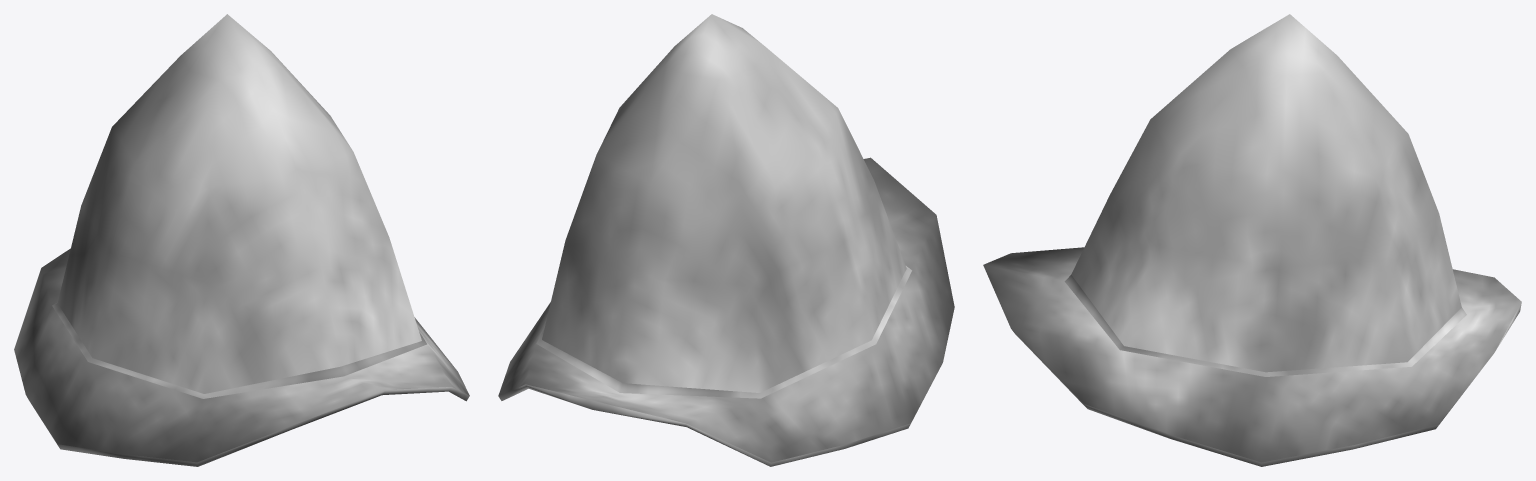
File: morrion_long.dae
The picture shows the model from 3 angles, left to right: view 1: azimuth 30°, elevation 25°; view 2: azimuth 150°, elevation 25°; view 3: azimuth 270°, elevation 25°; orthographic projection. The views are drawn at different scales.
Parts seen in each view (by area): view 1: morrion_long; view 2: morrion_long; view 3: morrion_long.
Boxes of the visible parts, bbox=[...] form: morrion_long: bbox=[14, 14, 469, 466]; morrion_long: bbox=[498, 14, 954, 466]; morrion_long: bbox=[983, 14, 1521, 466].
Size of the model in its own units: 0.5844 by 0.7651 by 0.5755.
